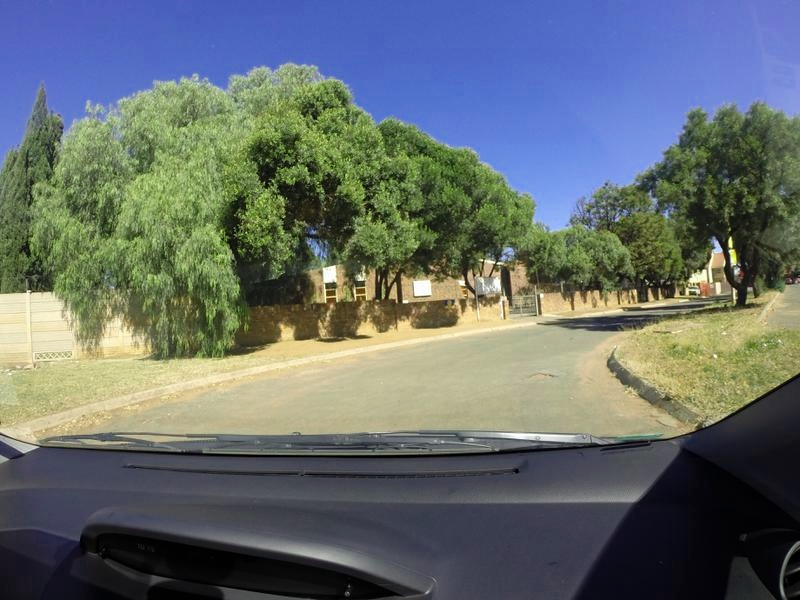pothole: (526, 372, 562, 382)
